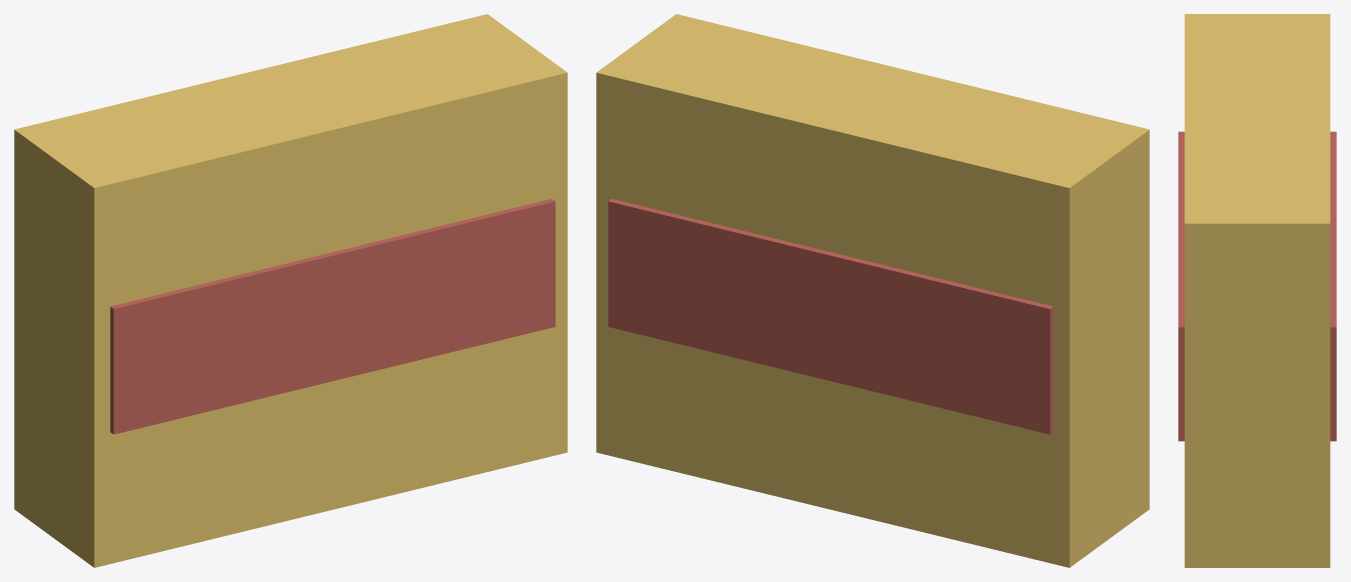
File: snack.glb
3 views of the same model, side by side, from view 1: azimuth 30°, elevation 25°; view 2: azimuth 150°, elevation 25°; view 3: azimuth 270°, elevation 25° (orthographic). The views are drawn at different scales.
Parts seen in each view (by area): view 1: NC_snack; view 2: NC_snack; view 3: NC_snack.
Part boxes in pixels (x1,y1,x2,y2): NC_snack: (14, 14, 567, 567); NC_snack: (596, 14, 1149, 567); NC_snack: (1178, 14, 1336, 567).
Size of the model in its own units: 0.15 by 0.115 by 0.048.
